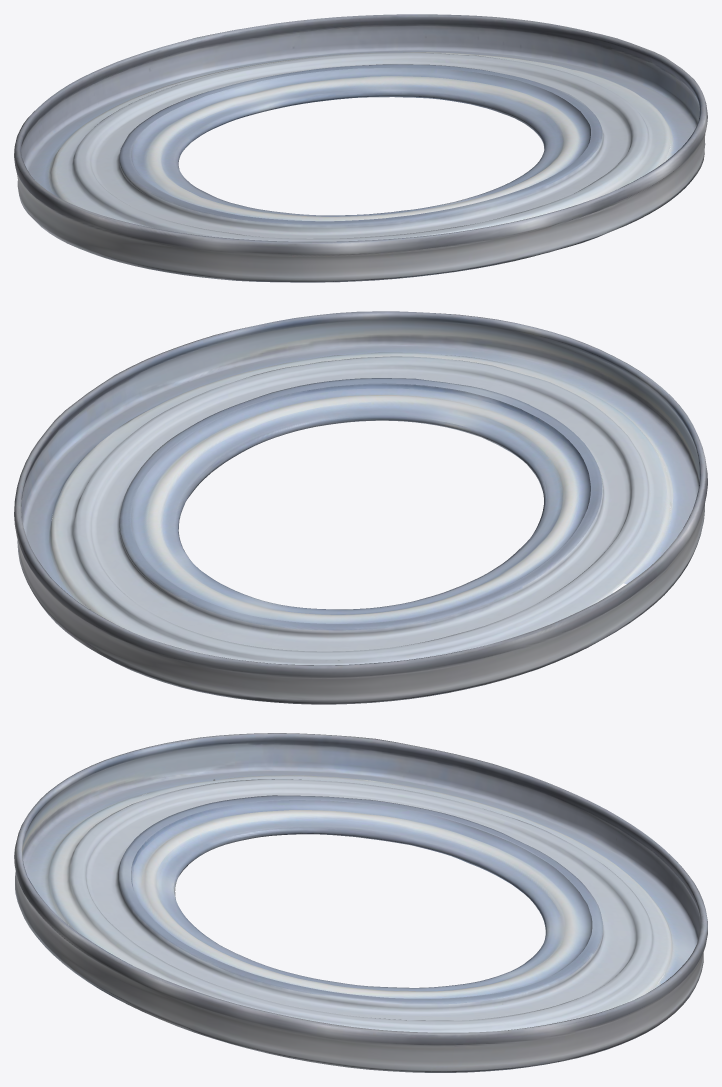
The model's file is bm-env-ceiling-ring-web-v001.glb.
The picture shows the model from 3 angles, top to bottom: view 1: azimuth 30°, elevation 25°; view 2: azimuth 150°, elevation 25°; view 3: azimuth 270°, elevation 25°; orthographic projection.
Visible parts, largest first — view 1: tripo_node_2ad85348; view 2: tripo_node_2ad85348; view 3: tripo_node_2ad85348.
Part boxes in pixels (<box>): tripo_node_2ad85348: <box>14,14,707,282</box>; tripo_node_2ad85348: <box>14,311,707,704</box>; tripo_node_2ad85348: <box>14,733,707,1072</box>.
Bounding box in the file's own units: 0.9793 × 0.1745 × 0.9759.
Materials: 1 (1 with a texture image).
